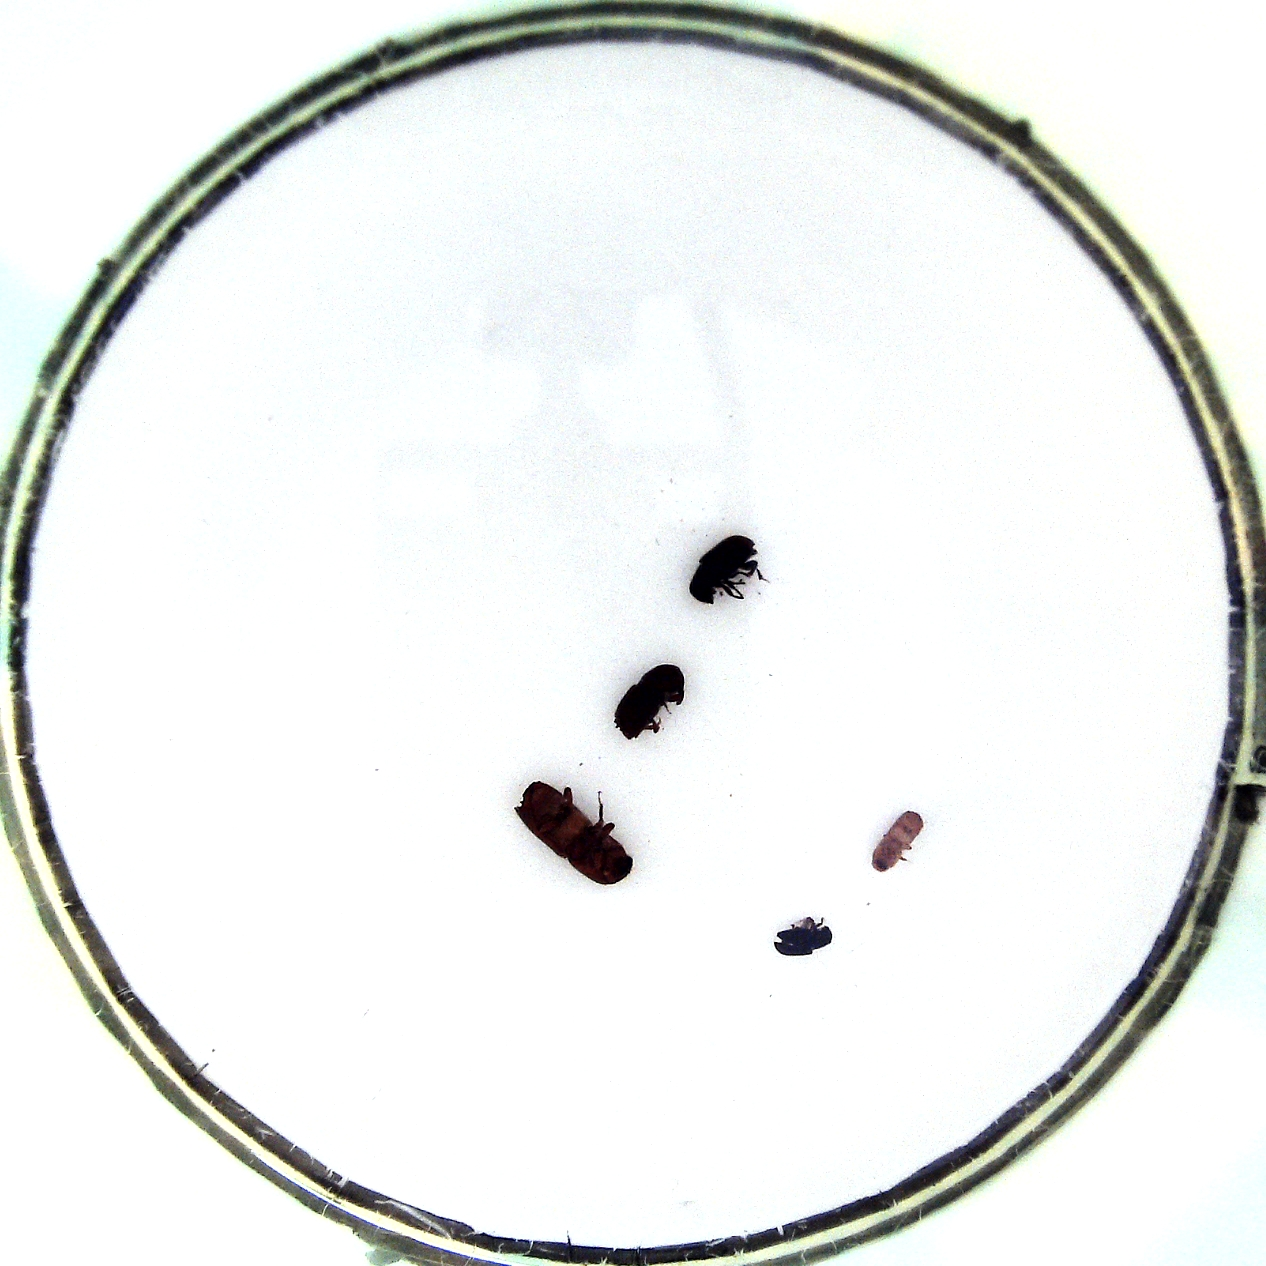Boerner: (512, 780, 636, 887)
Linnaeus: (609, 660, 693, 739)
acuminatus: (865, 808, 934, 874)
armandi: (685, 533, 774, 610)
coleoptera: (776, 910, 834, 965)
